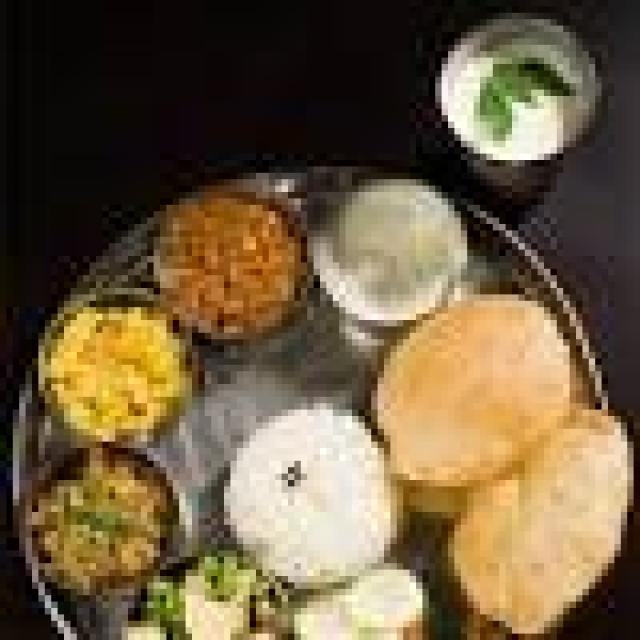dal: (40, 289, 185, 456), (307, 175, 466, 314)
papad: (213, 398, 393, 582)
sweet: (437, 23, 606, 168)
veg-fry: (18, 440, 177, 613), (39, 288, 189, 459)
